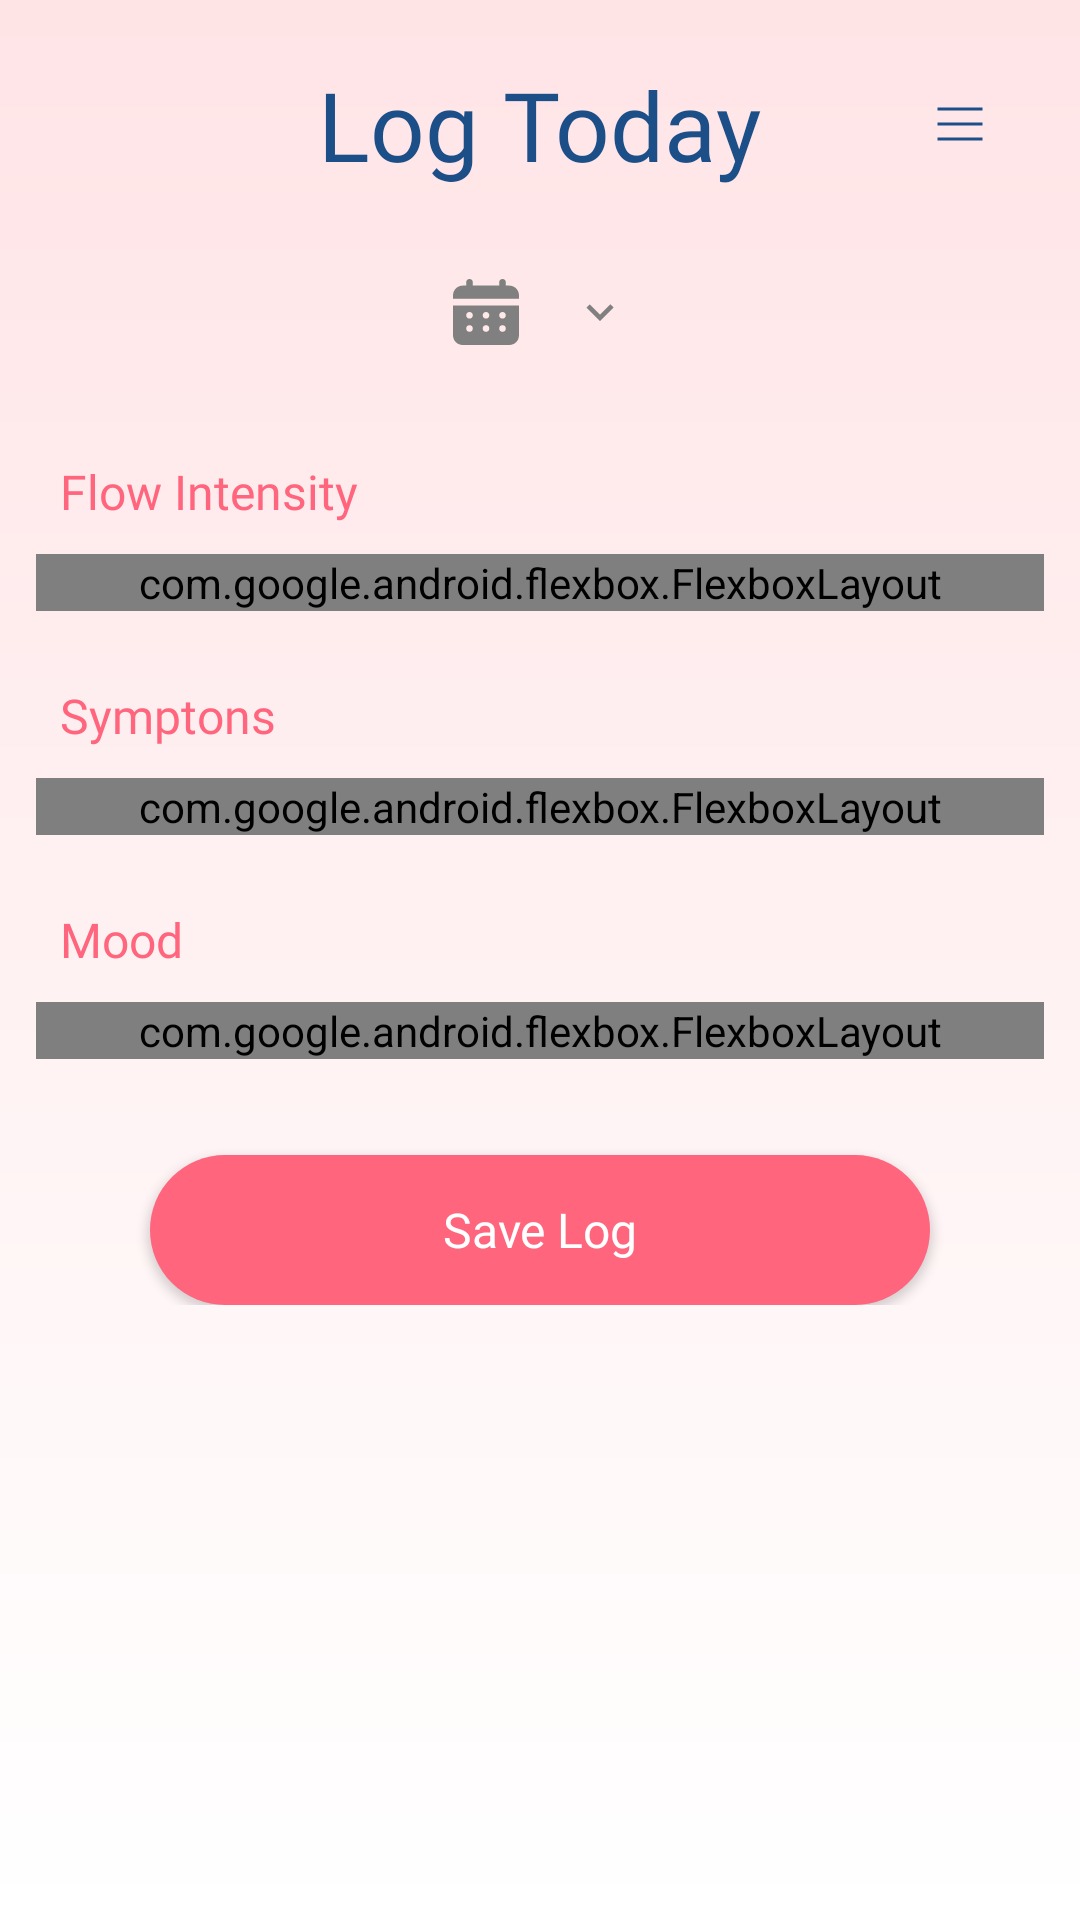

Icon bounding boxes for this 1080px x 1920px phone screenshot, format box(x1, y1, x2, y2):
calendar: box(453, 279, 519, 345)
Menu: box(937, 107, 983, 141)
